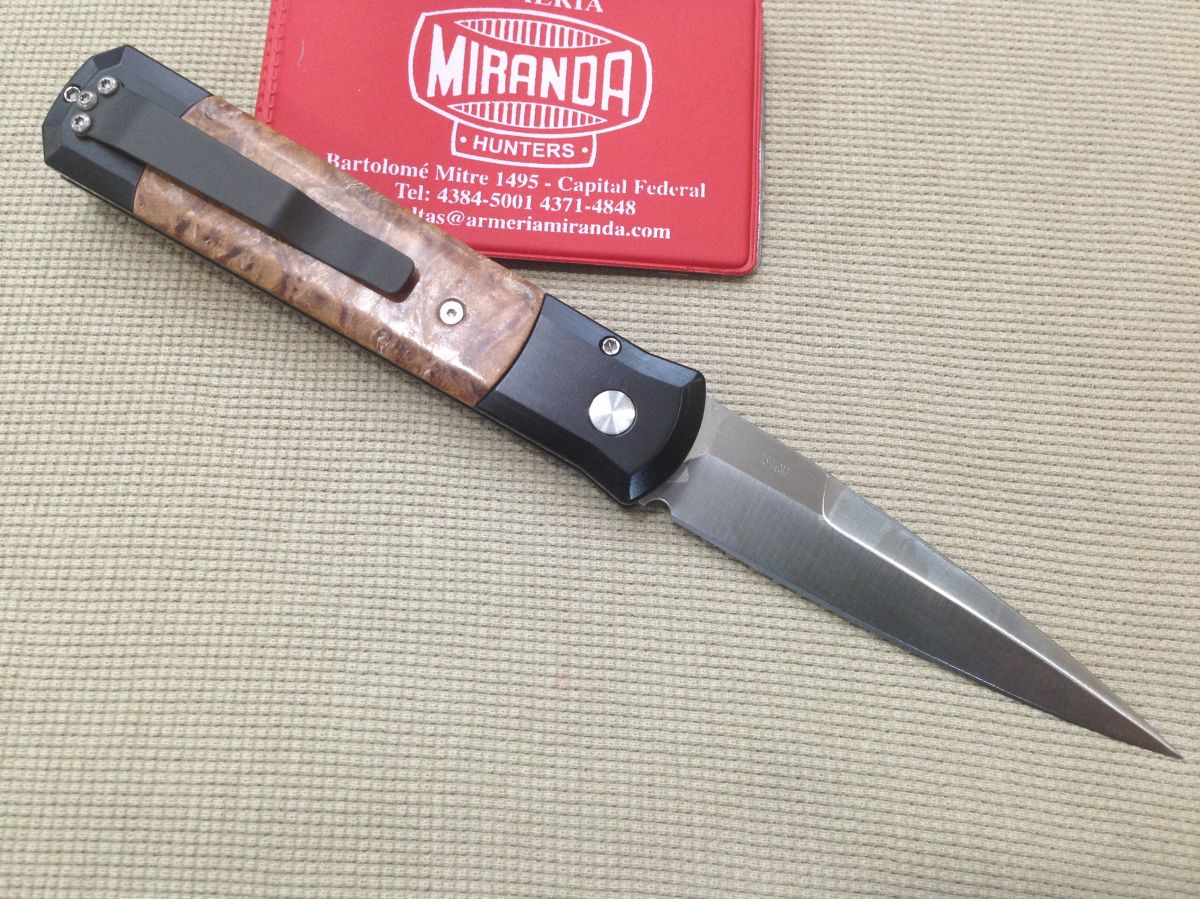knife: (582, 367, 1190, 769)
